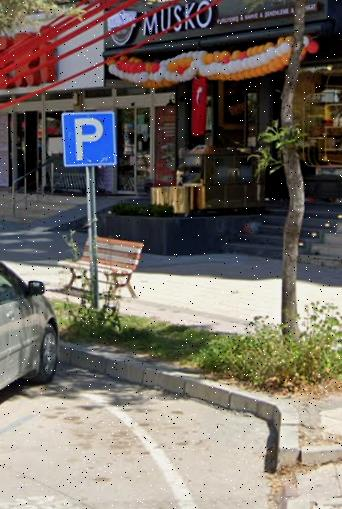park: (65, 114, 115, 164)
